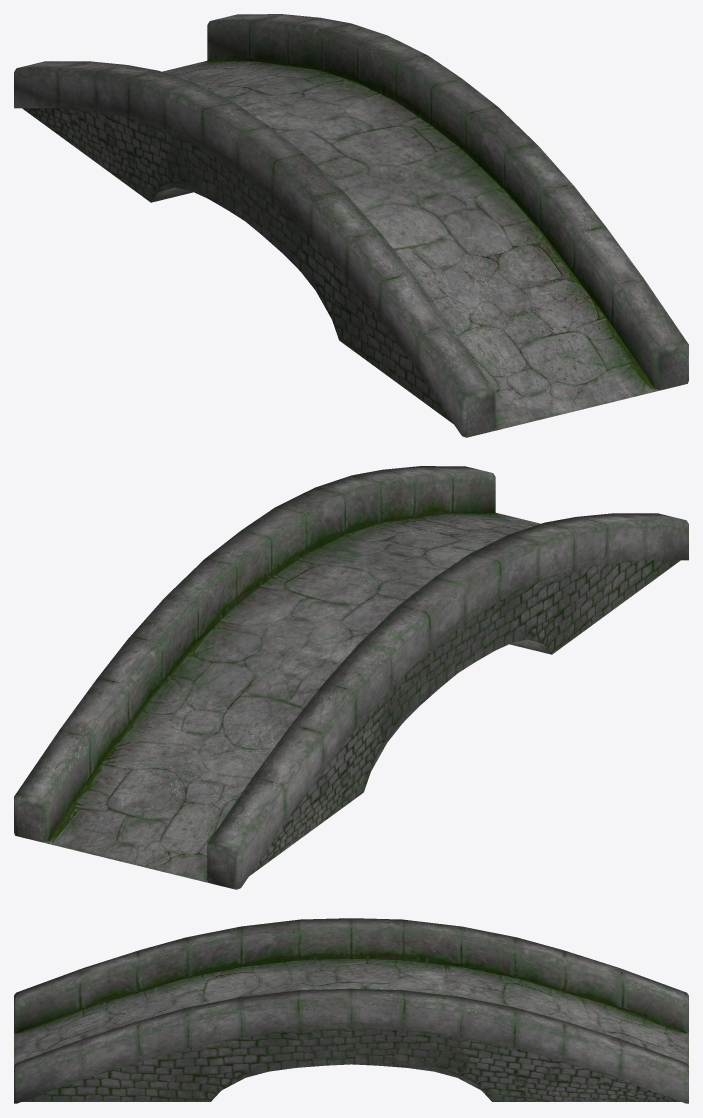
File: Bridge.obj
3 views of the same model, one above another, from view 1: azimuth 30°, elevation 25°; view 2: azimuth 150°, elevation 25°; view 3: azimuth 270°, elevation 25° (orthographic). The views are drawn at different scales.
Parts seen in each view (by area): view 1: bridge:bridge:polySurface4_bridge_UV:defaultMat1_0; view 2: bridge:bridge:polySurface4_bridge_UV:defaultMat1_0; view 3: bridge:bridge:polySurface4_bridge_UV:defaultMat1_0.
Boxes of the visible parts, x1=… form: bridge:bridge:polySurface4_bridge_UV:defaultMat1_0: x1=14, y1=14, x2=688, y2=437; bridge:bridge:polySurface4_bridge_UV:defaultMat1_0: x1=14, y1=466, x2=688, y2=889; bridge:bridge:polySurface4_bridge_UV:defaultMat1_0: x1=14, y1=918, x2=688, y2=1103.
Bounding box in the file's own units: 5.89 × 3.47 × 20.26.
